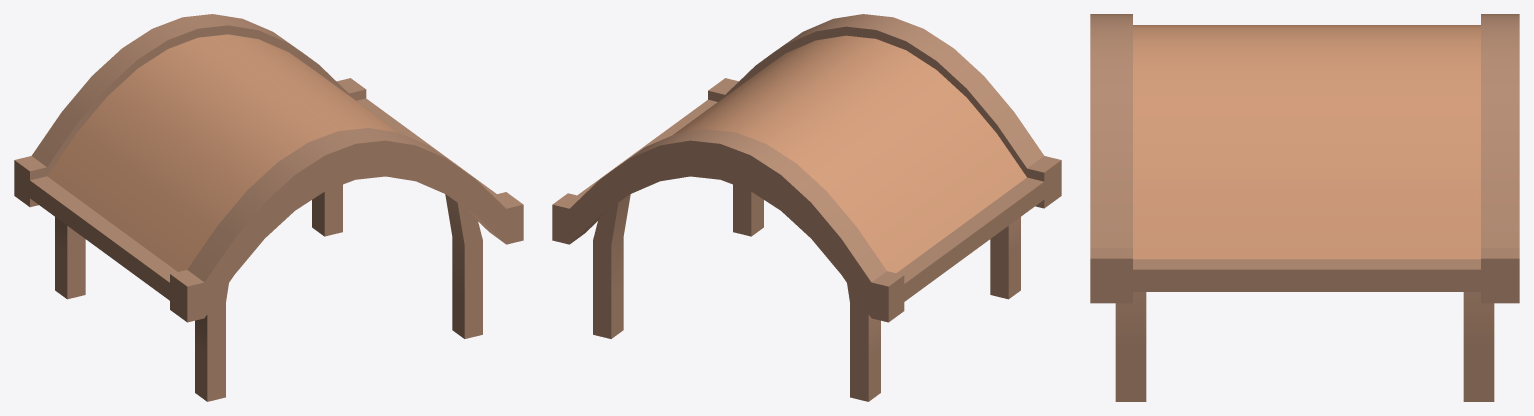
The model's file is bridge_3_up_1.fbx.
3 renders of one model, left to right at view 1: azimuth 30°, elevation 25°; view 2: azimuth 150°, elevation 25°; view 3: azimuth 270°, elevation 25°, orthographic. The views are drawn at different scales.
Visible parts, largest first — view 1: bridge_3_up_1; view 2: bridge_3_up_1; view 3: bridge_3_up_1.
Part boxes in pixels (box(x1,y1,x2,y2)): bridge_3_up_1: box(14, 14, 523, 401); bridge_3_up_1: box(552, 14, 1061, 401); bridge_3_up_1: box(1090, 14, 1519, 401).
Bounding box in the file's own units: 9.8 × 6.46 × 8.73.
